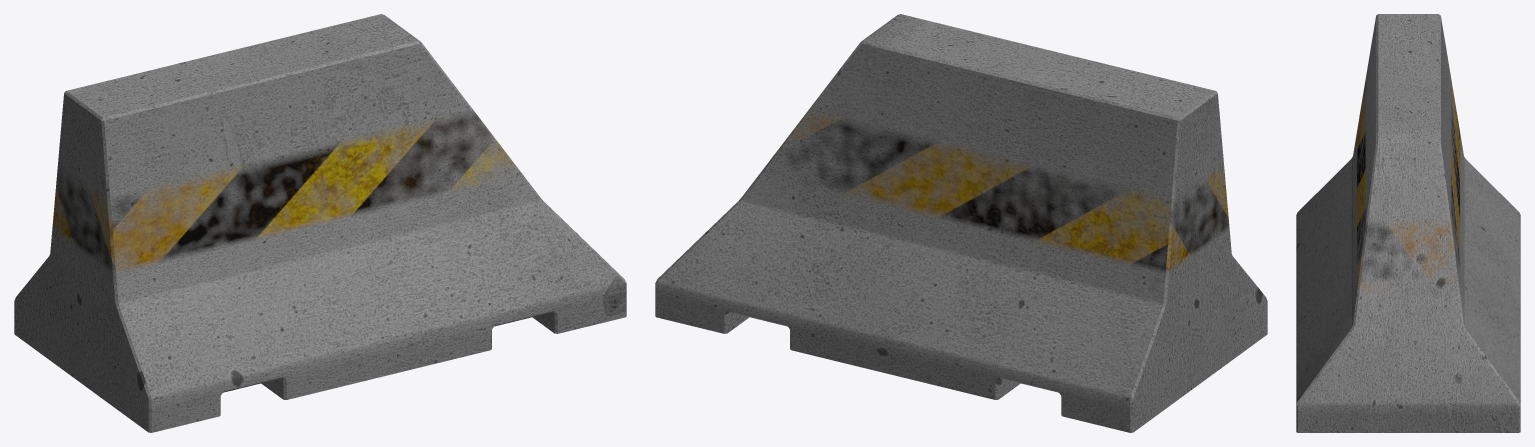
File: Concrete barrier End.fbx
3 renders of one model, left to right at view 1: azimuth 30°, elevation 25°; view 2: azimuth 150°, elevation 25°; view 3: azimuth 270°, elevation 25°, orthographic. The views are drawn at different scales.
Parts seen in each view (by area): view 1: Concrete barrier End; view 2: Concrete barrier End; view 3: Concrete barrier End.
Boxes of the visible parts, x1,y1,x2,y2 form: Concrete barrier End: (14, 14, 626, 432); Concrete barrier End: (655, 14, 1267, 432); Concrete barrier End: (1296, 14, 1520, 432).
Size of the model in its own units: 95.16 by 52.94 by 47.11.
